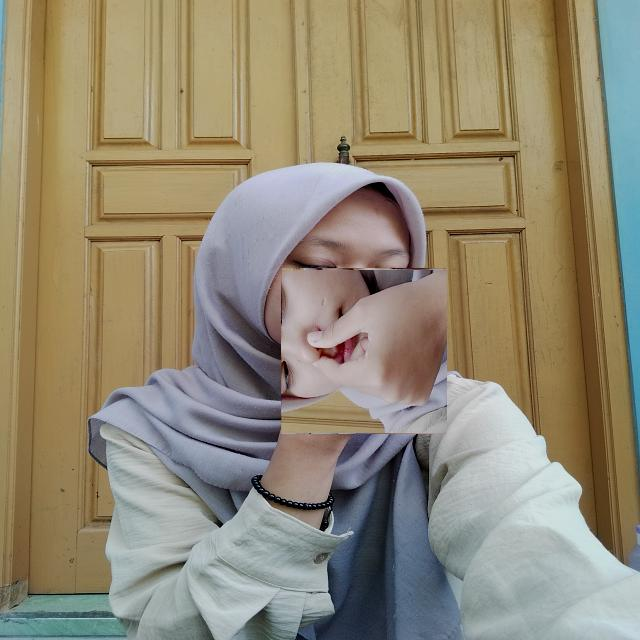bau: (282, 269, 447, 434)
